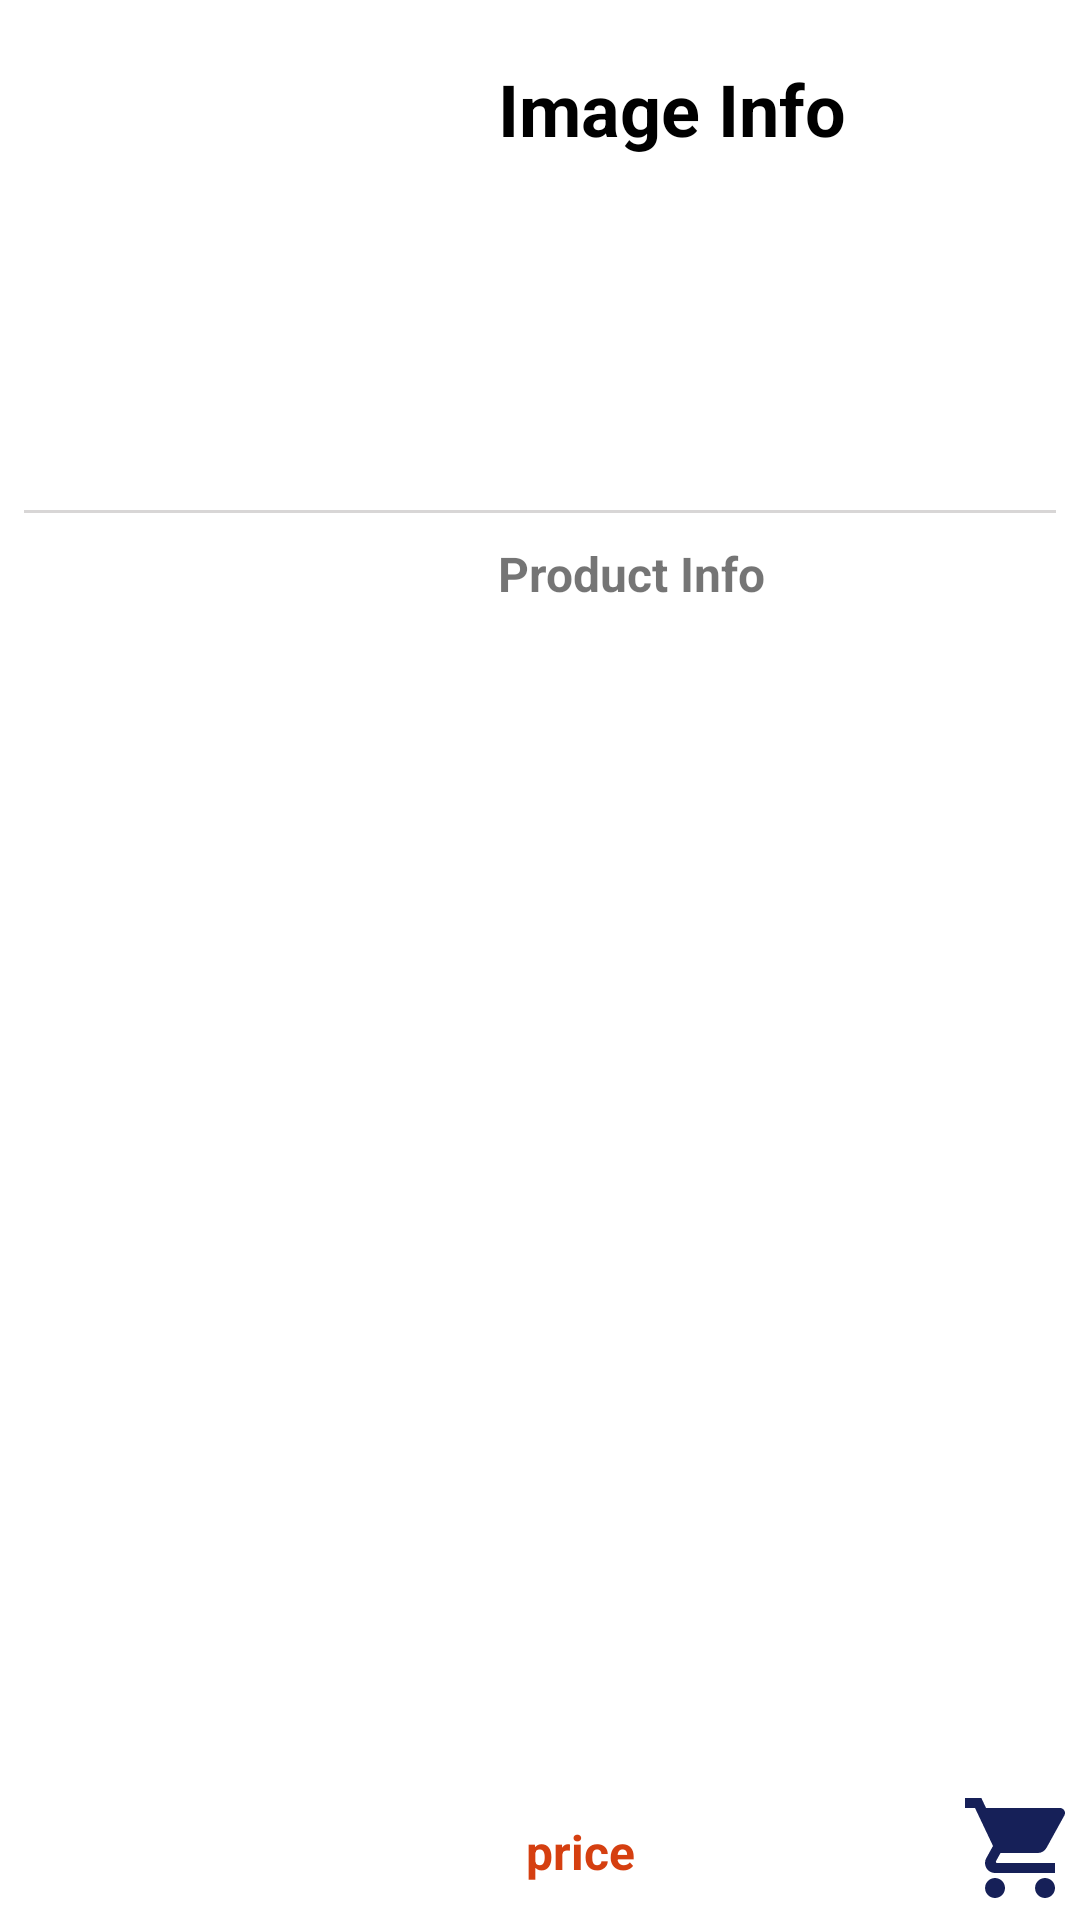

Where to tap for icons on this 1080px x 1920px app screen, as [x,y]:
shopping cart: [1015,1848]
